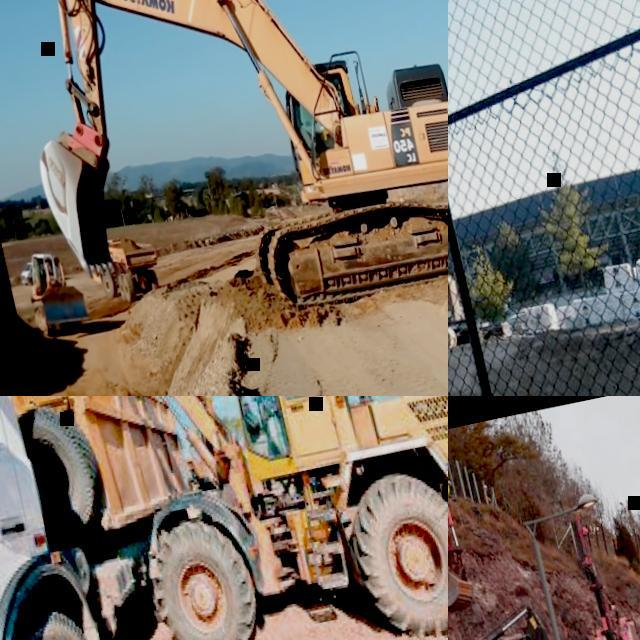helmet: (448, 480, 451, 485)
vest: (448, 483, 450, 495)
